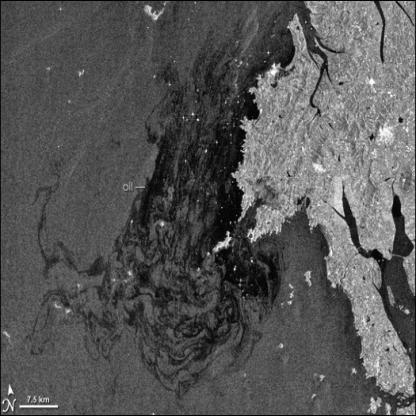oil: (36, 48, 292, 383)
